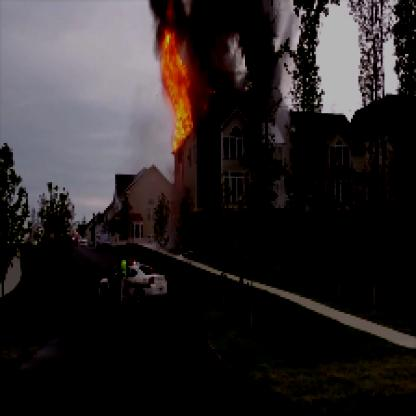Fire: (156, 2, 210, 147)
Smoke: (189, 2, 273, 108)
